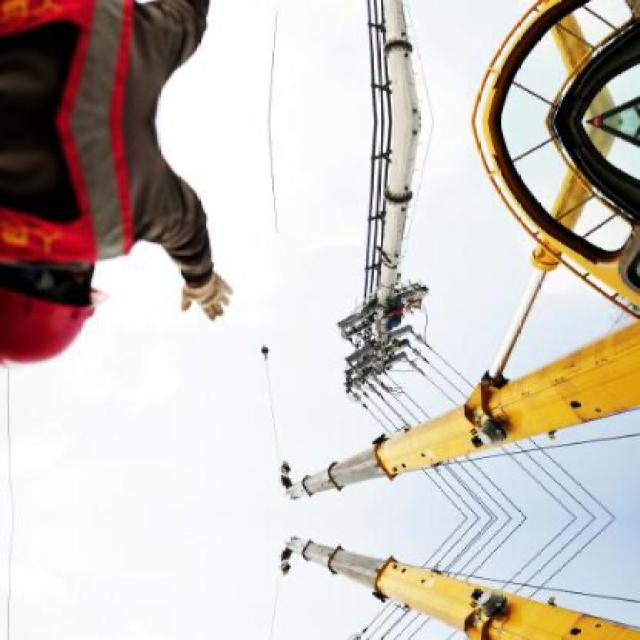con casco: (0, 209, 155, 387)
